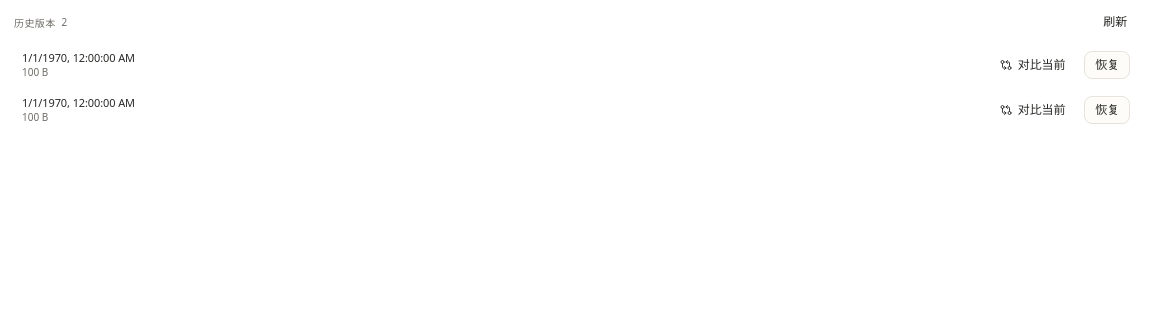
Test case: HistoryPanel › opens a diff view against the current content
The image size is (1152, 320).
Click the 1st button with class "btn-compare".
click(1032, 64)  # box [989,50,1076,78]
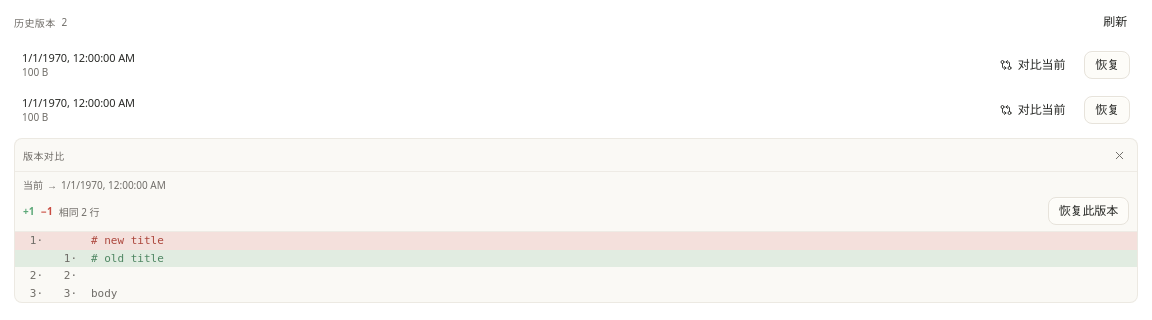
Check: the element with class "diff-view" is shown, box [14,138,1138,303]
